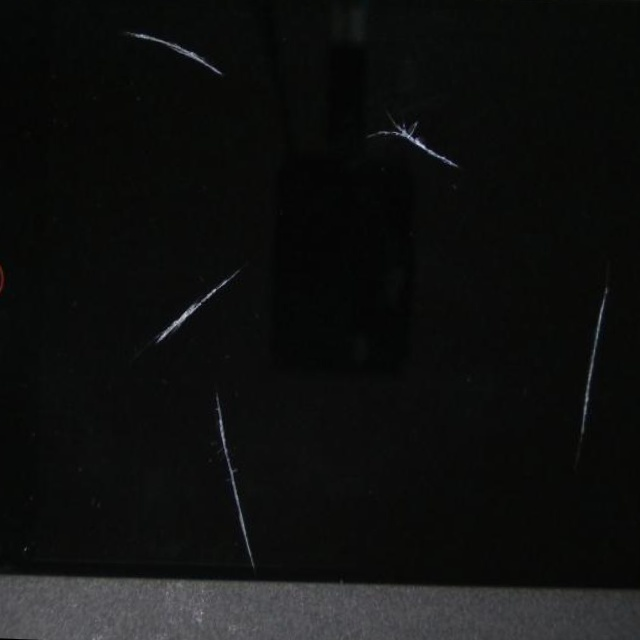scratch: (98, 110, 396, 433), (131, 352, 412, 640)
